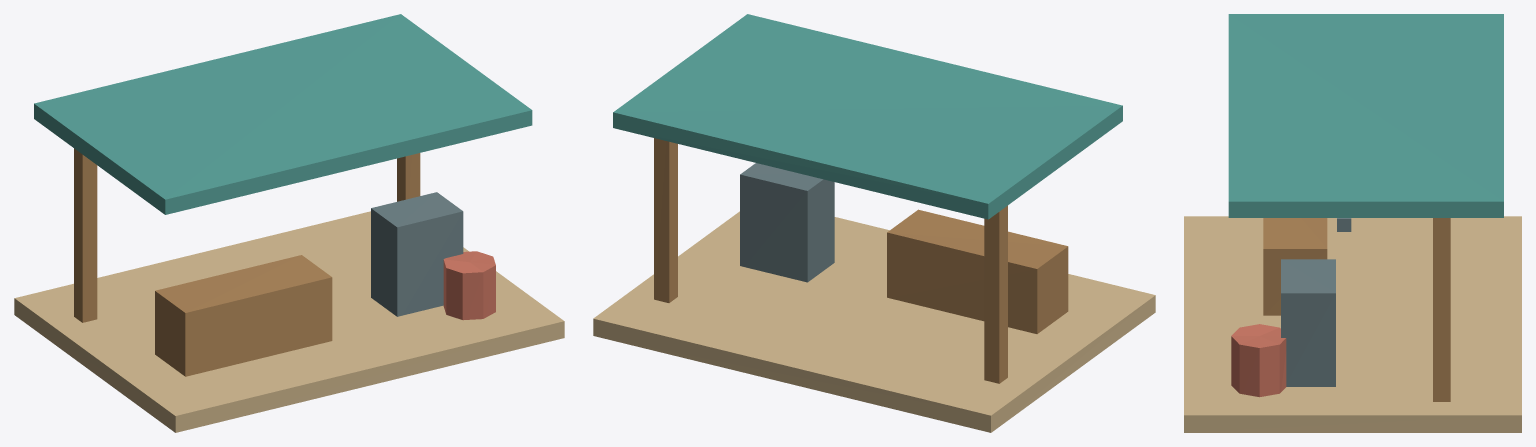
The model's file is Repair-Shed.glb.
3 renders of one model, left to right at view 1: azimuth 30°, elevation 25°; view 2: azimuth 150°, elevation 25°; view 3: azimuth 270°, elevation 25°, orthographic. The views are drawn at different scales.
Parts seen in each view (by area): view 1: repair-shed-static-repair-roof, repair-shed-static-repair-concrete, repair-shed-static-repair-timber, repair-shed-static-repair-metal, repair-shed-static-repair-safety-orange; view 2: repair-shed-static-repair-roof, repair-shed-static-repair-concrete, repair-shed-static-repair-timber, repair-shed-static-repair-metal; view 3: repair-shed-static-repair-roof, repair-shed-static-repair-concrete, repair-shed-static-repair-timber, repair-shed-static-repair-metal, repair-shed-static-repair-safety-orange.
Boxes of the visible parts, <box> form: repair-shed-static-repair-roof: <box>34,14,532,214</box>; repair-shed-static-repair-concrete: <box>14,211,564,432</box>; repair-shed-static-repair-timber: <box>74,148,420,376</box>; repair-shed-static-repair-metal: <box>371,192,463,316</box>; repair-shed-static-repair-safety-orange: <box>443,251,495,320</box>; repair-shed-static-repair-roof: <box>613,14,1122,219</box>; repair-shed-static-repair-concrete: <box>593,211,1155,432</box>; repair-shed-static-repair-timber: <box>654,138,1068,383</box>; repair-shed-static-repair-metal: <box>740,163,834,282</box>; repair-shed-static-repair-roof: <box>1228,14,1503,217</box>; repair-shed-static-repair-concrete: <box>1184,216,1521,432</box>; repair-shed-static-repair-timber: <box>1263,218,1450,401</box>; repair-shed-static-repair-metal: <box>1281,218,1351,386</box>; repair-shed-static-repair-safety-orange: <box>1231,324,1286,397</box>.
Bounding box in the file's own units: 5.3 × 2.8 × 3.8.
